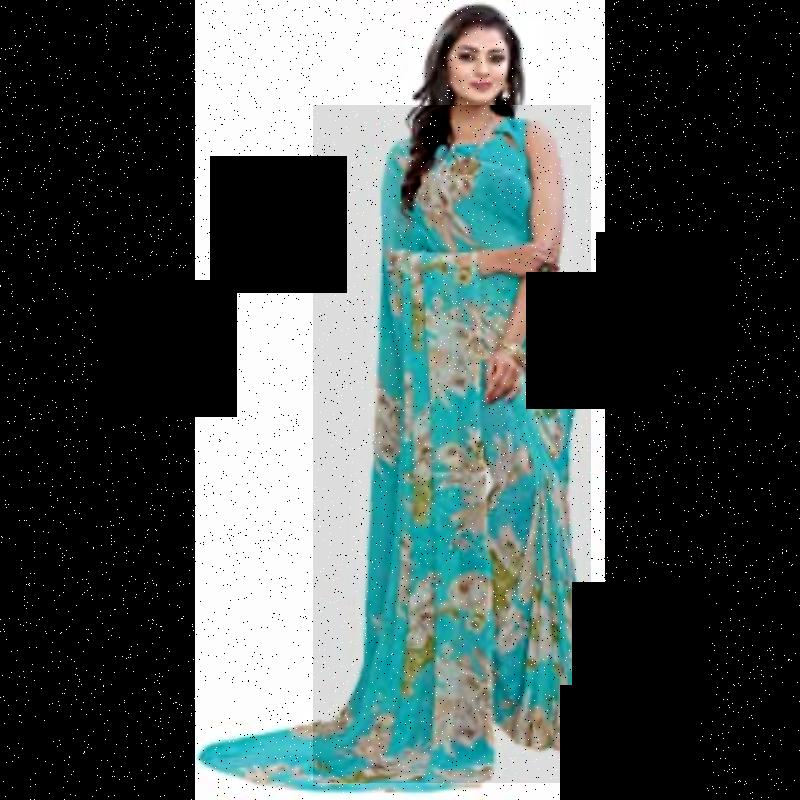Sari: (313, 105, 591, 783)
